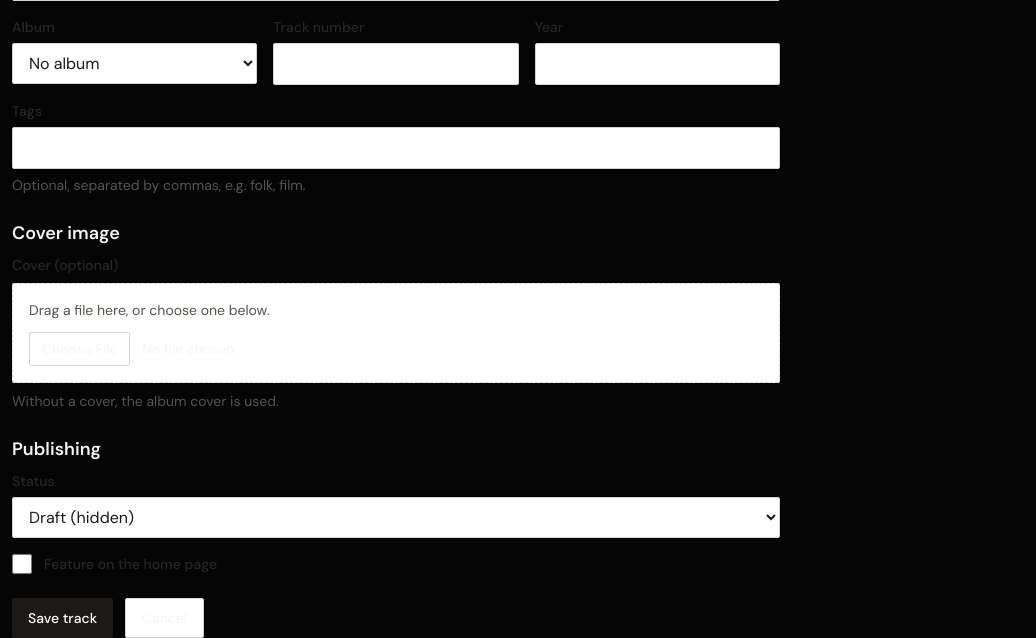
Scenario: track editor › requires a title and an audio file
(page scrolled)
What coordinates should you click on to do the following:
click the button "Save track"
I would click on:
 (62, 618)
Its box is [12,598,113,637].
(page scrolled)
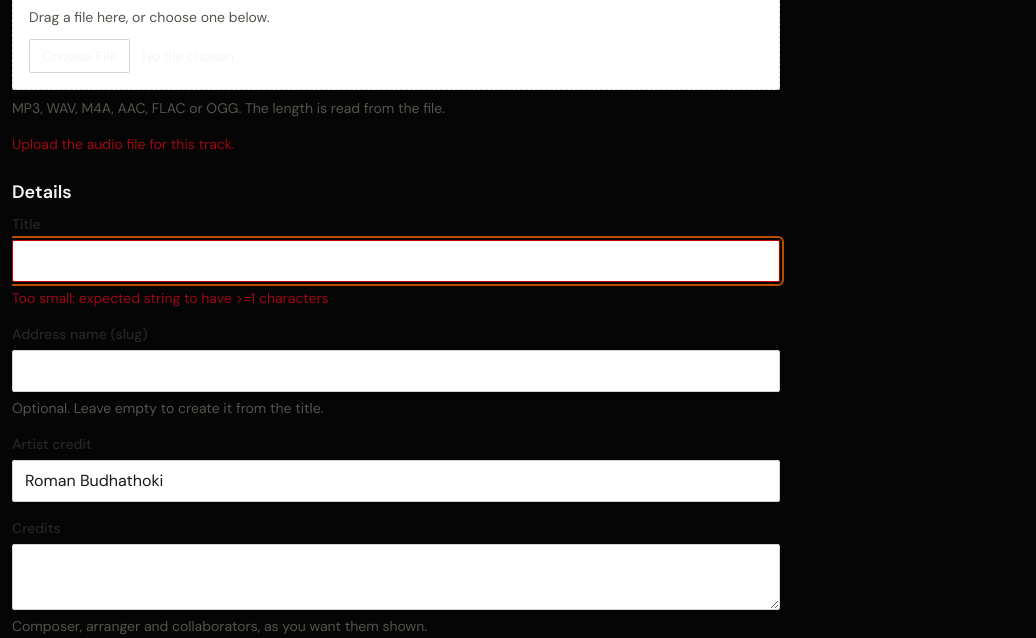
Now the text "Upload the audio file for this track." is shown, box [12,135,235,153]
